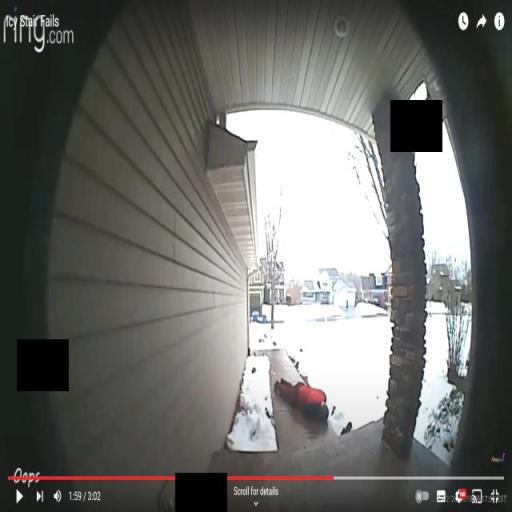Fall: (273, 373, 332, 429)
